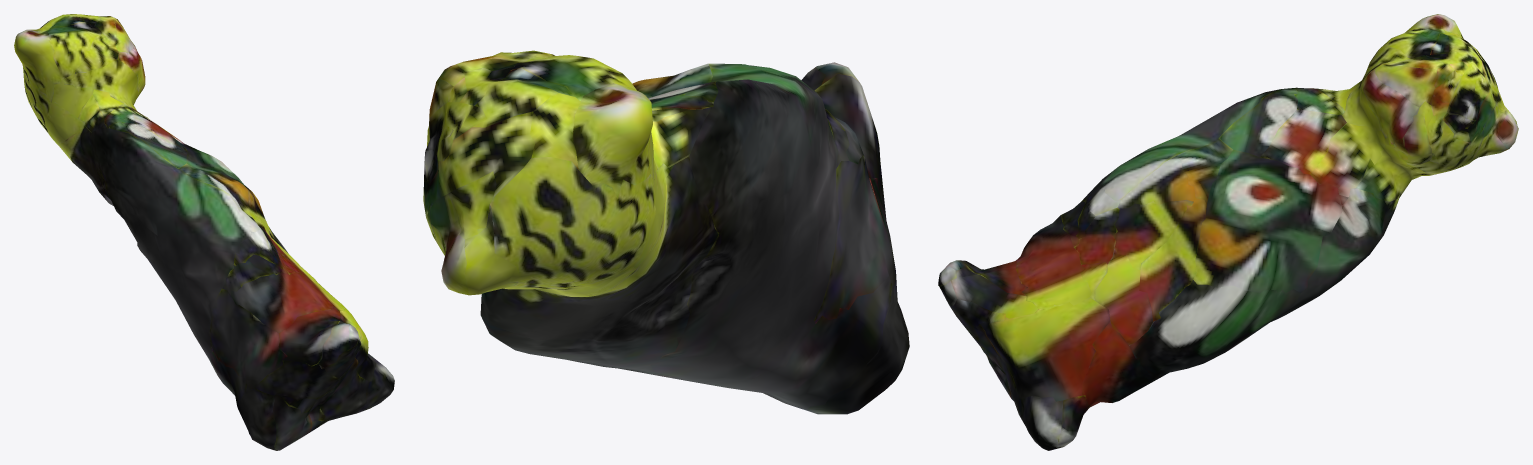
File: hall.glb
The picture shows the model from 3 angles, left to right: view 1: azimuth 30°, elevation 25°; view 2: azimuth 150°, elevation 25°; view 3: azimuth 270°, elevation 25°; orthographic projection. The views are drawn at different scales.
Bounding box in the file's own units: 0.3909 × 0.548 × 0.8269.
Materials: 1 (1 with a texture image).
